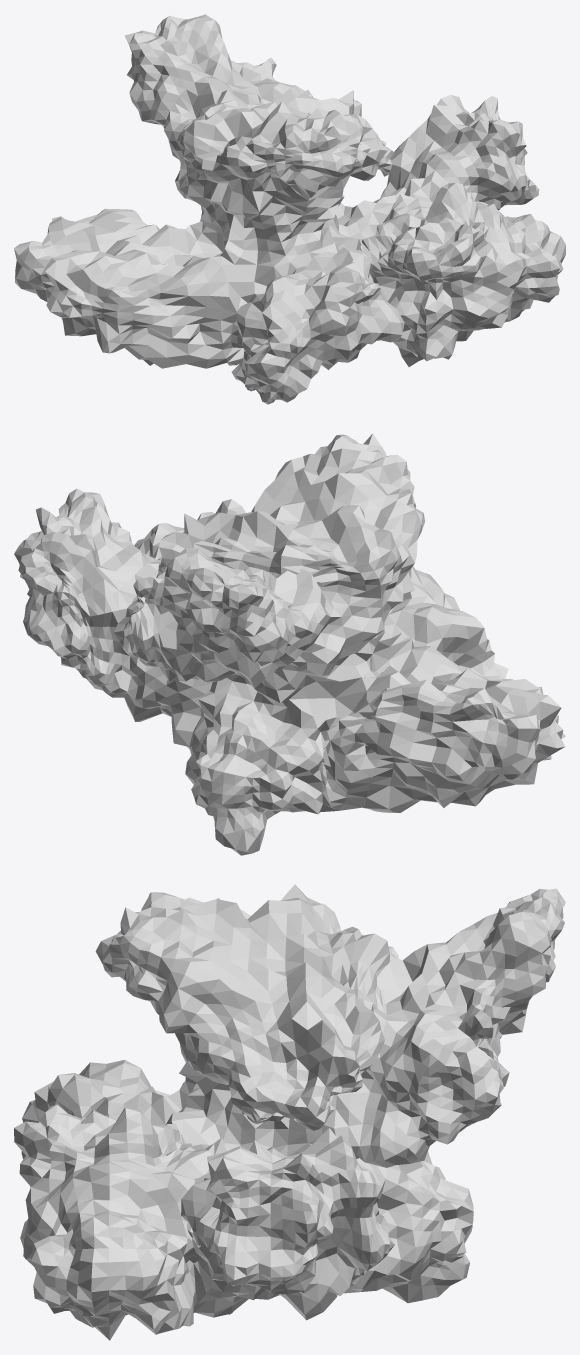
The model's file is cloud1.obj.
3 views of the same model, one above another, from view 1: azimuth 30°, elevation 25°; view 2: azimuth 150°, elevation 25°; view 3: azimuth 270°, elevation 25° (orthographic). The views are drawn at different scales.
Parts seen in each view (by area): view 1: Cube; view 2: Cube; view 3: Cube.
Part boxes in pixels (x1,y1,x2,y2): Cube: (14, 14, 565, 404); Cube: (14, 433, 565, 855); Cube: (14, 884, 565, 1340).
Size of the model in its own units: 6.21 by 3.52 by 4.56.
Materials: 1 (1 with a texture image).
